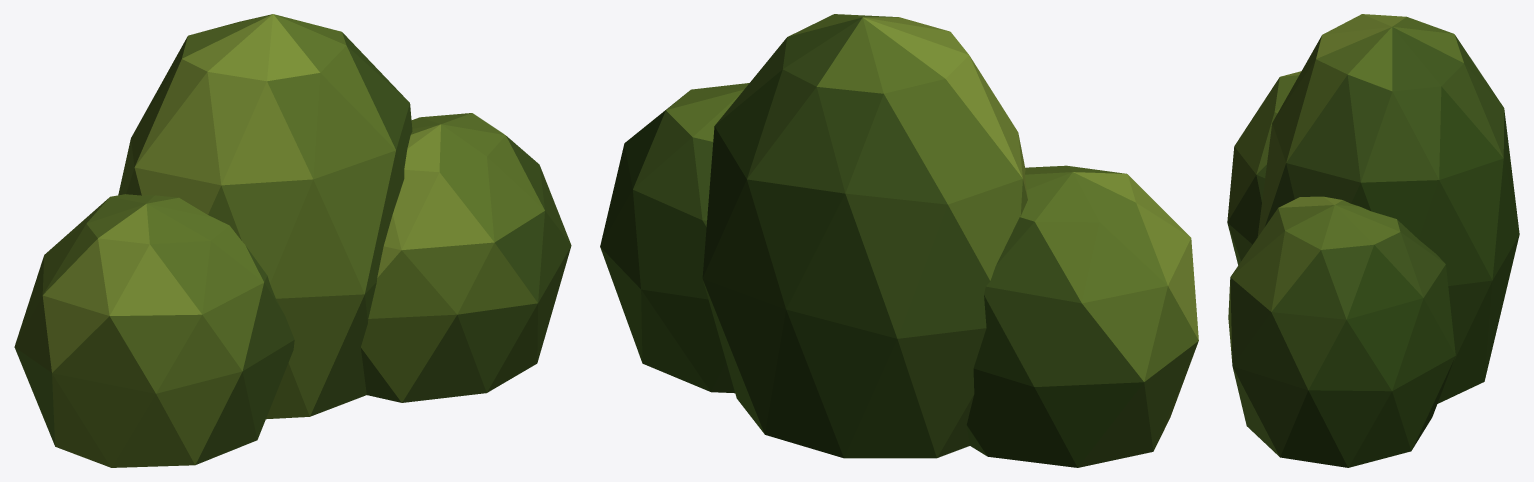
Rendered from bush.glb.
The picture shows the model from 3 angles, left to right: view 1: azimuth 30°, elevation 25°; view 2: azimuth 150°, elevation 25°; view 3: azimuth 270°, elevation 25°; orthographic projection. The views are drawn at different scales.
Parts seen in each view (by area): view 1: bush; view 2: bush; view 3: bush.
Part boxes in pixels (x1,y1,x2,y2): bush: (14, 14, 571, 467); bush: (600, 14, 1198, 467); bush: (1227, 14, 1519, 467).
Size of the model in its own units: 1.58 by 1.04 by 0.8193.
